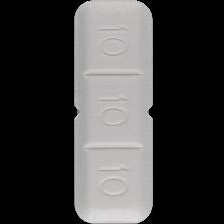42291-177: (0, 0, 224, 224)
